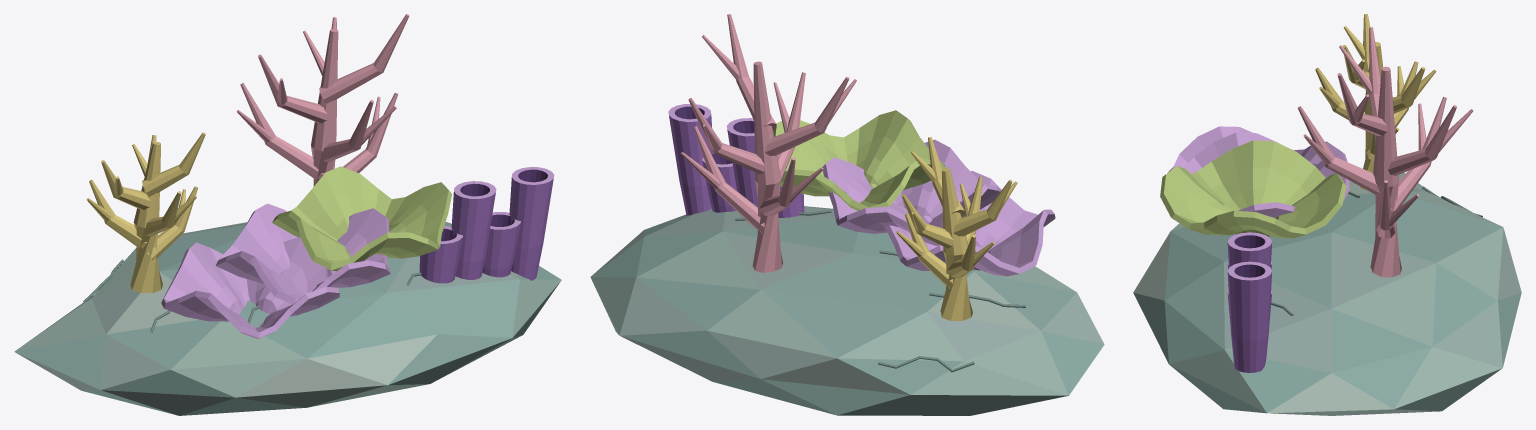
File: Coral.fbx
3 renders of one model, left to right at view 1: azimuth 30°, elevation 25°; view 2: azimuth 150°, elevation 25°; view 3: azimuth 270°, elevation 25°, orthographic. The views are drawn at different scales.
Parts seen in each view (by area): view 1: SM_Coral; view 2: SM_Coral; view 3: SM_Coral.
Part boxes in pixels (x1=…): SM_Coral: x1=14, y1=14, x2=561, y2=415; SM_Coral: x1=590, y1=14, x2=1104, y2=415; SM_Coral: x1=1133, y1=14, x2=1521, y2=415.
Bounding box in the file's own units: 2.34 × 1.39 × 1.57.
